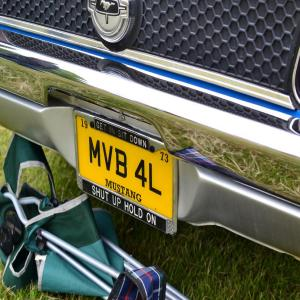Vehicle-registration-plate: (77, 108, 180, 238)
